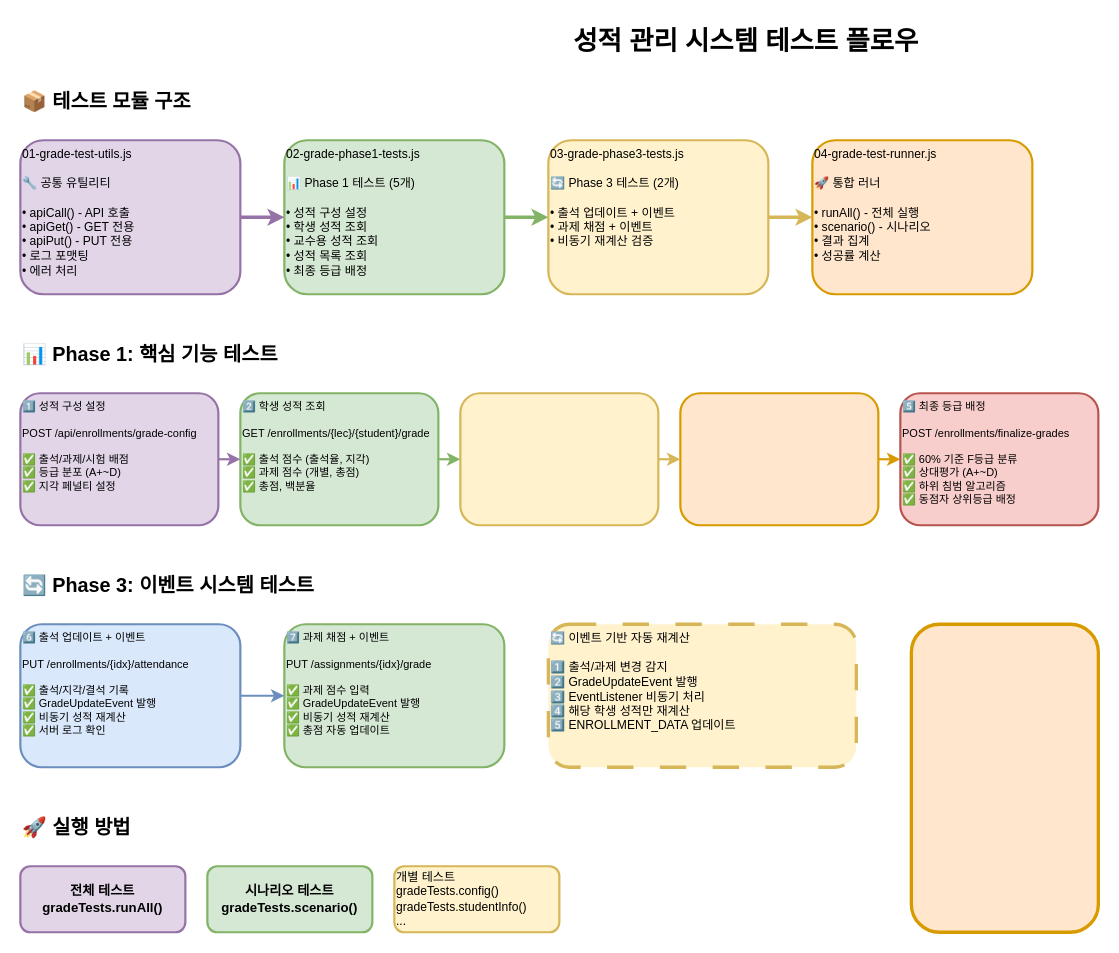
Some shapes in this 1119 by 953 pixel diagram are drawn without their labels. The shapes that lost their labels are listed below. From the top down, each one's centre as x and y in pixels, then its label:
At pixel 559 459: "3️⃣ 교수용 성적 조회 GET /enrollments/professor/grade ✅ 학생 정보 + 통계 ✅ 반 평균, 최고점 ✅ 순위 정보".
At pixel 779 459: "4️⃣ 성적 목록 조회 GET /enrollments/grade-list ✅ 전체 수강생 목록 ✅ 정렬 (점수, 이름) ✅ 페이징 처리".
At pixel 1004 777: "📊 예상 결과 총 테스트: 7개 ✅ 성공: 7개 ❌ 실패: 0개 📈 성공률: 100% 💡 서버 로그에서 이벤트 처리 확인".
